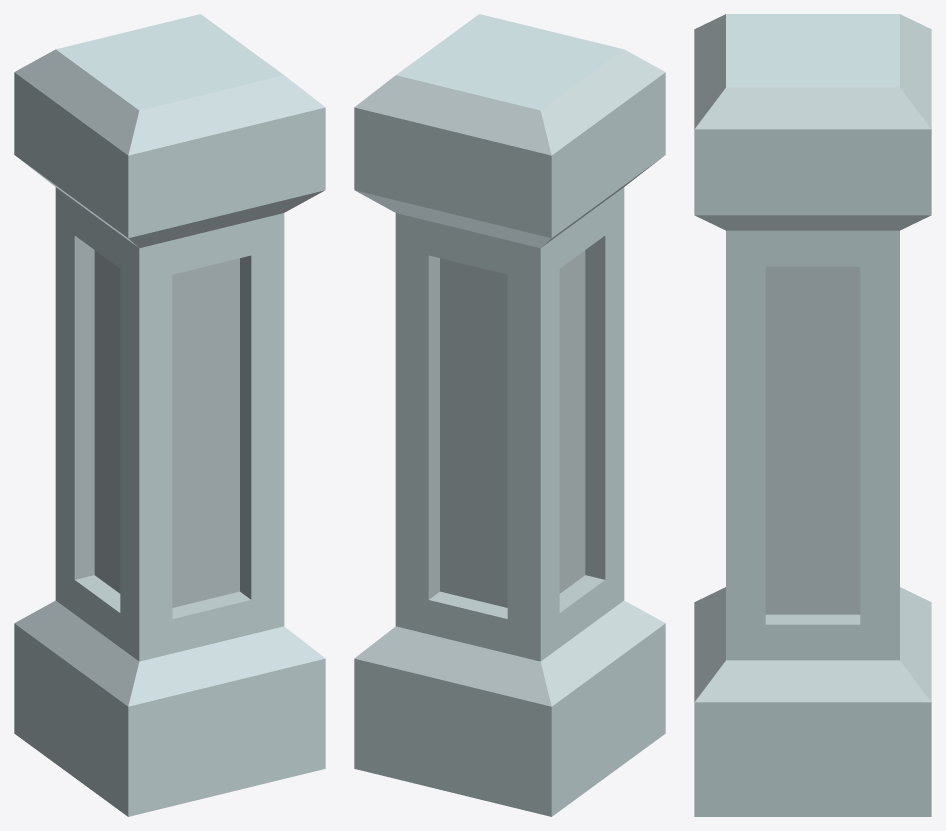
File: statue-column.glb
The picture shows the model from 3 angles, left to right: view 1: azimuth 30°, elevation 25°; view 2: azimuth 150°, elevation 25°; view 3: azimuth 270°, elevation 25°; orthographic projection. The views are drawn at different scales.
Visible parts, largest first — view 1: statue_column; view 2: statue_column; view 3: statue_column.
Part boxes in pixels (x1=…): statue_column: x1=14, y1=14, x2=325, y2=816; statue_column: x1=354, y1=14, x2=665, y2=816; statue_column: x1=694, y1=14, x2=931, y2=816.
Bounding box in the file's own units: 0.3 × 1 × 0.3.
